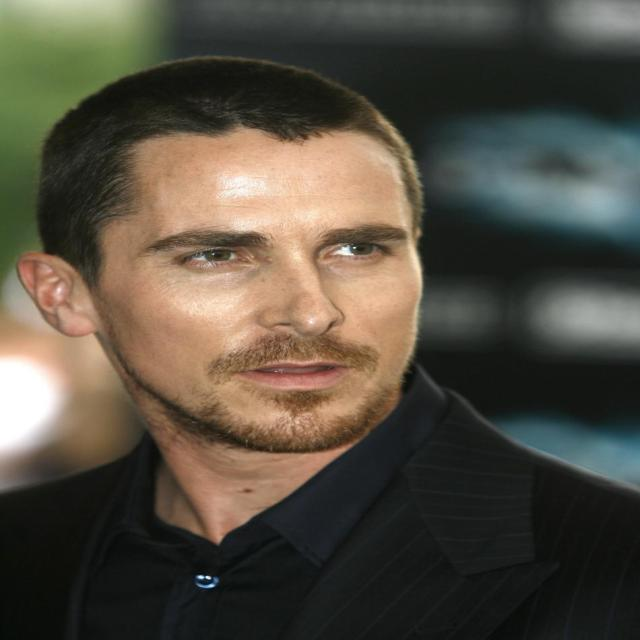no-earmuff: (3, 243, 135, 366)
